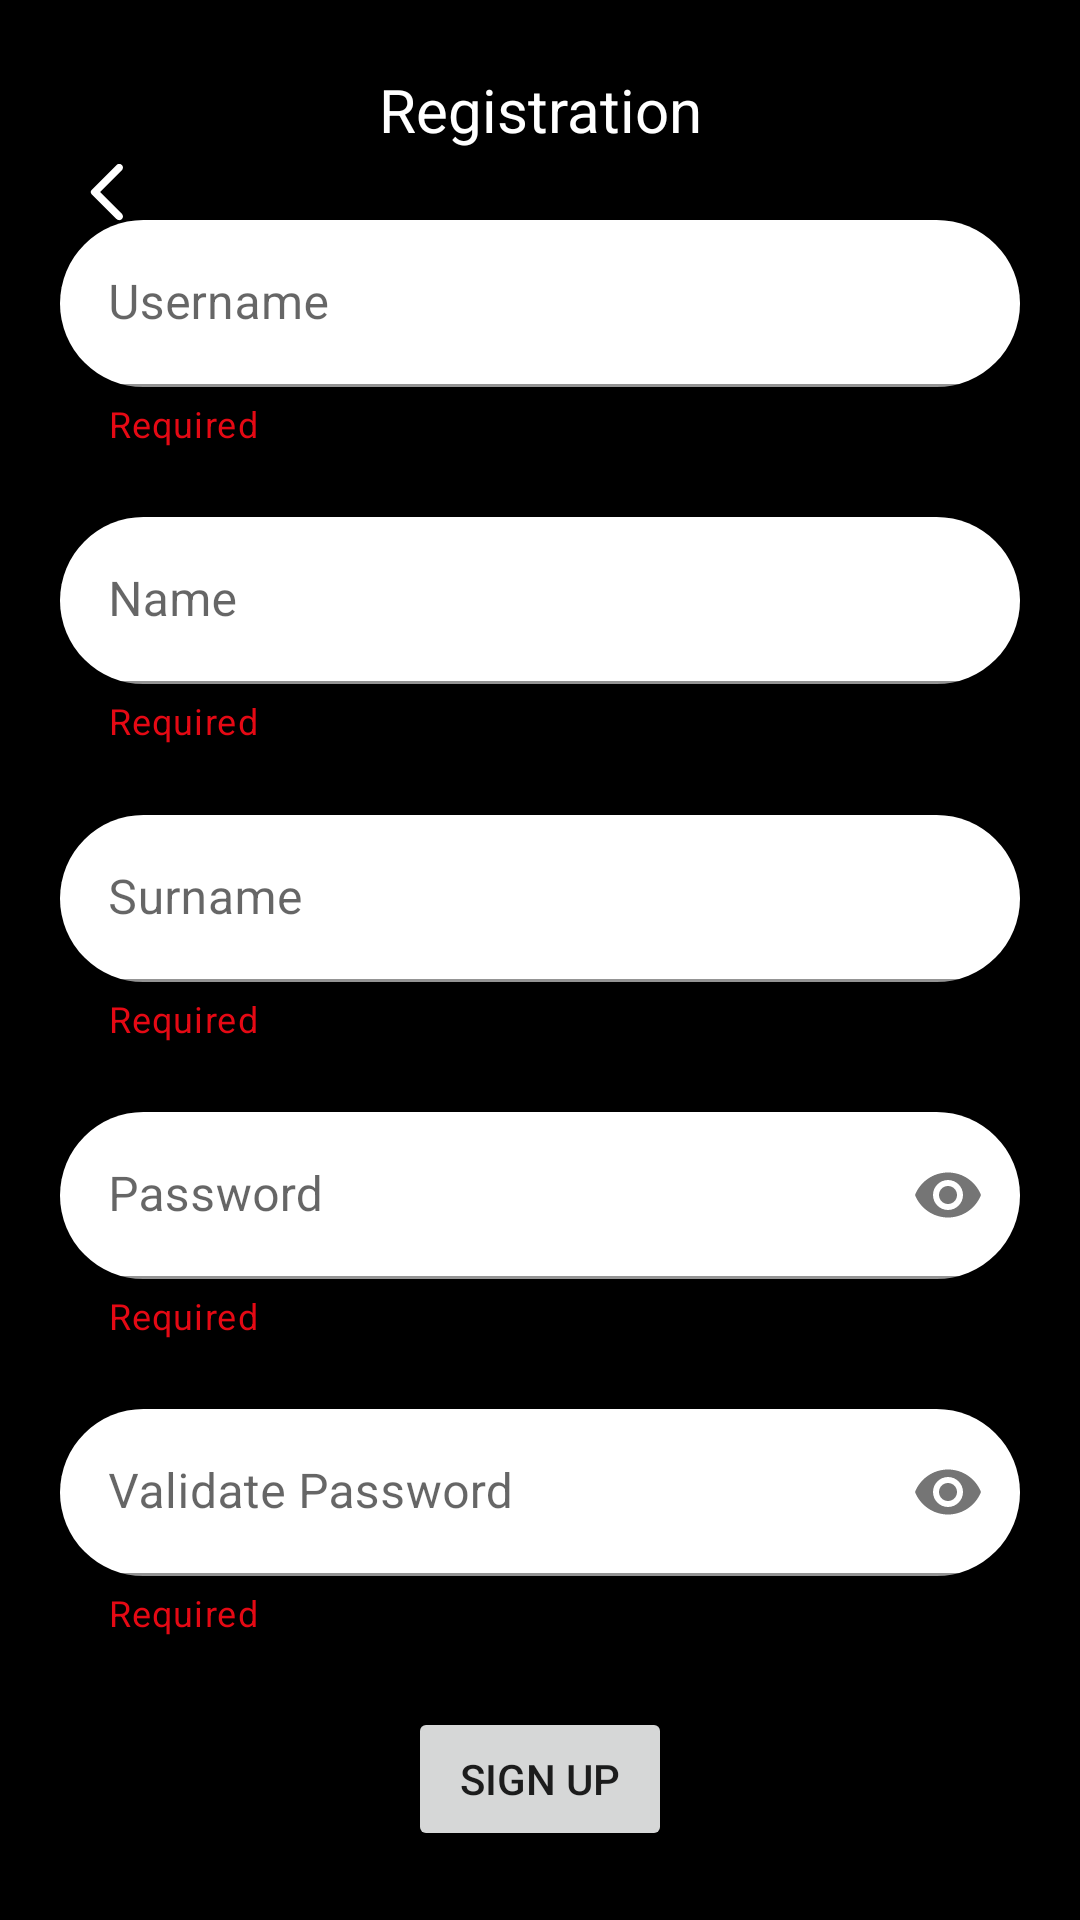

Icon bounding boxes for this 1080x1920 phone screenshot, format BBox(x1, y1, x2, y2):
arrow back: BBox(90, 164, 123, 221)
